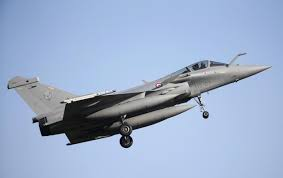fighter: (6, 52, 274, 154)
